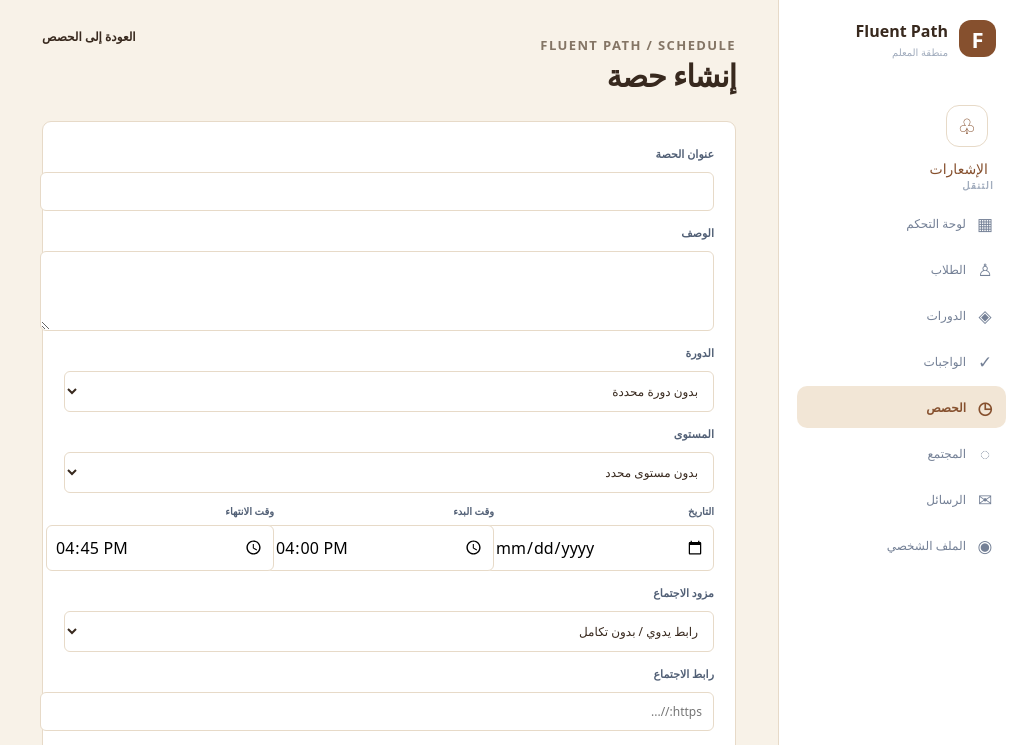
Scenario: teacher sees when Zoom is configured on the server
Step 1. Select "إنشاء اجتماع Zoom تلقائيًا" in the dropdown labelled "مزود الاجتماع" → [389, 631], box [64,611,714,652]
(page scrolled)
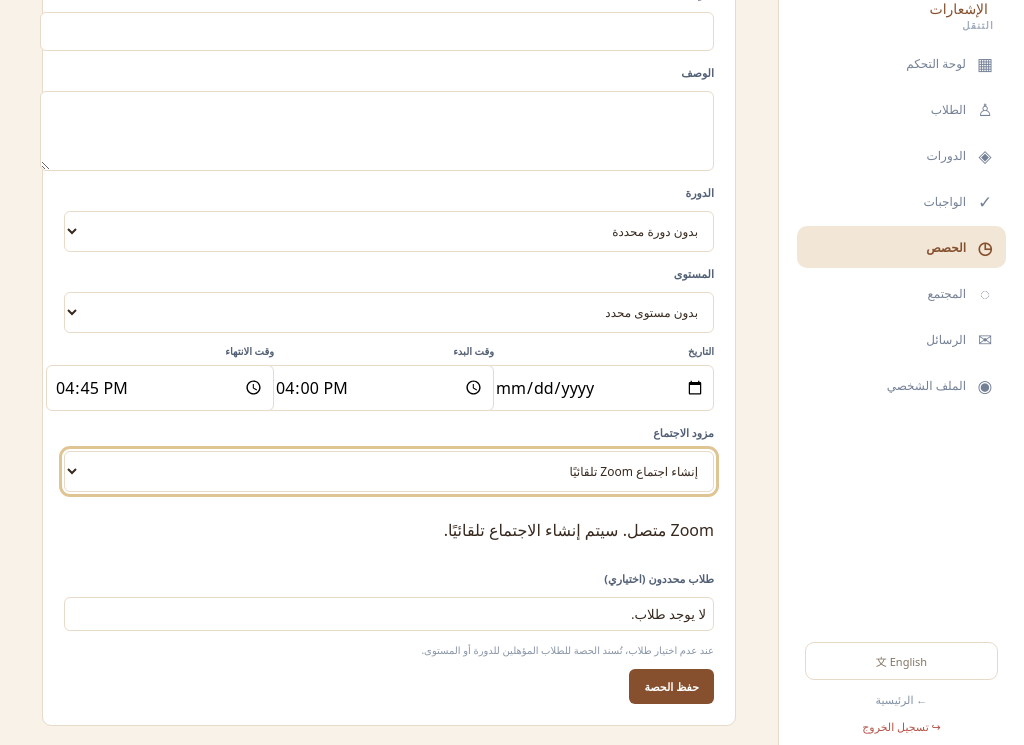
Expected: the button "حفظ الحصة" is enabled, [629,669,714,704]
Now the text "Zoom متصل. سيتم إنشاء الاجتماع تلقائيًا." is shown, box [396,519,714,541]
